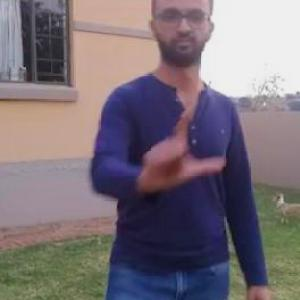land_hand: (128, 97, 231, 204)
